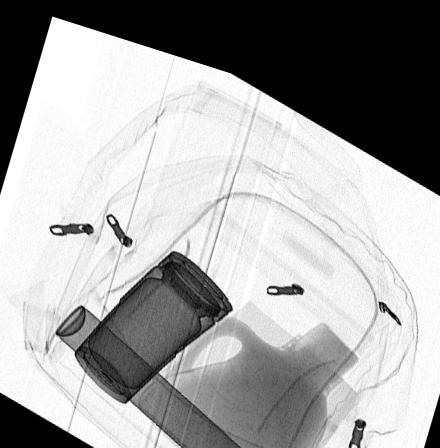Sprayer: (54, 298, 260, 448)
